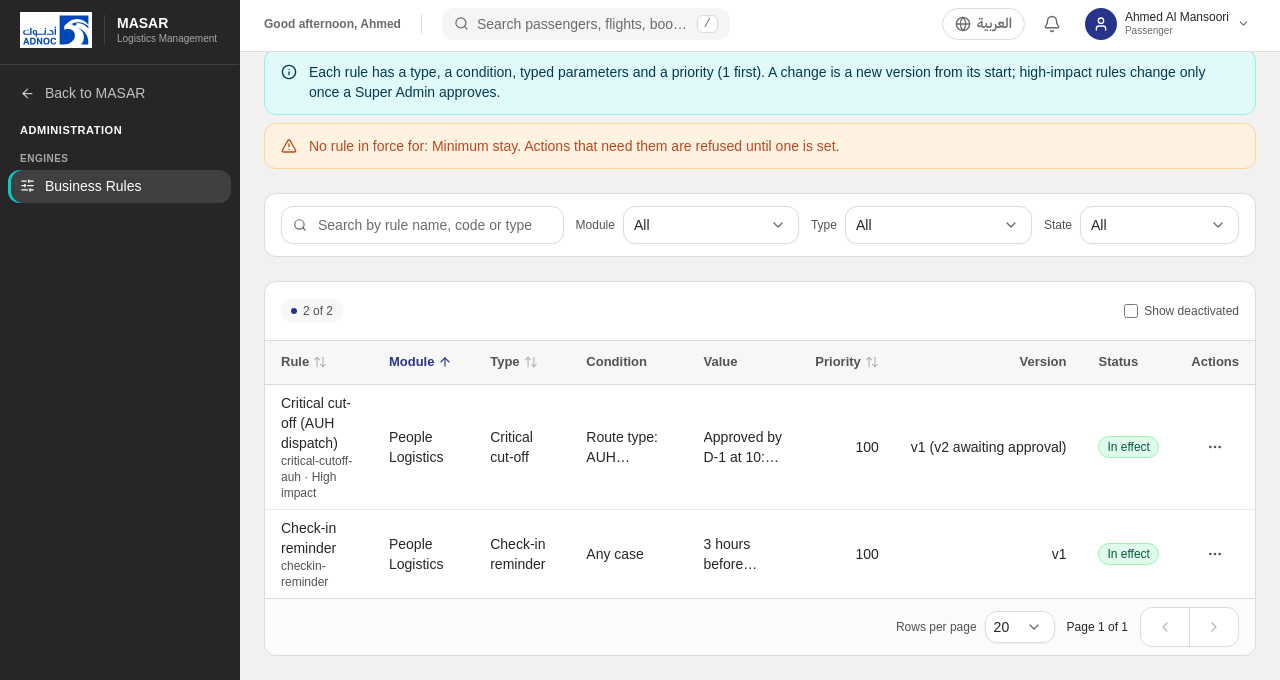
Test case: BRD-D.2.2.2-MST the Business Rules page (spec 10 §3.2) › PROMPT-2.7 a viewer sees the rules without New, edit or End
This screenshot has width=1280, height=680.
(page scrolled)
Expected: the text "Approved by D-1 at 10:00 GST" is shown, [704, 427, 783, 467]
What coordinates should you click on to do the following:
click the button named "Actions for Check-in reminder"
I would click on:
 (1215, 554)
Its box is [1191, 535, 1239, 573].
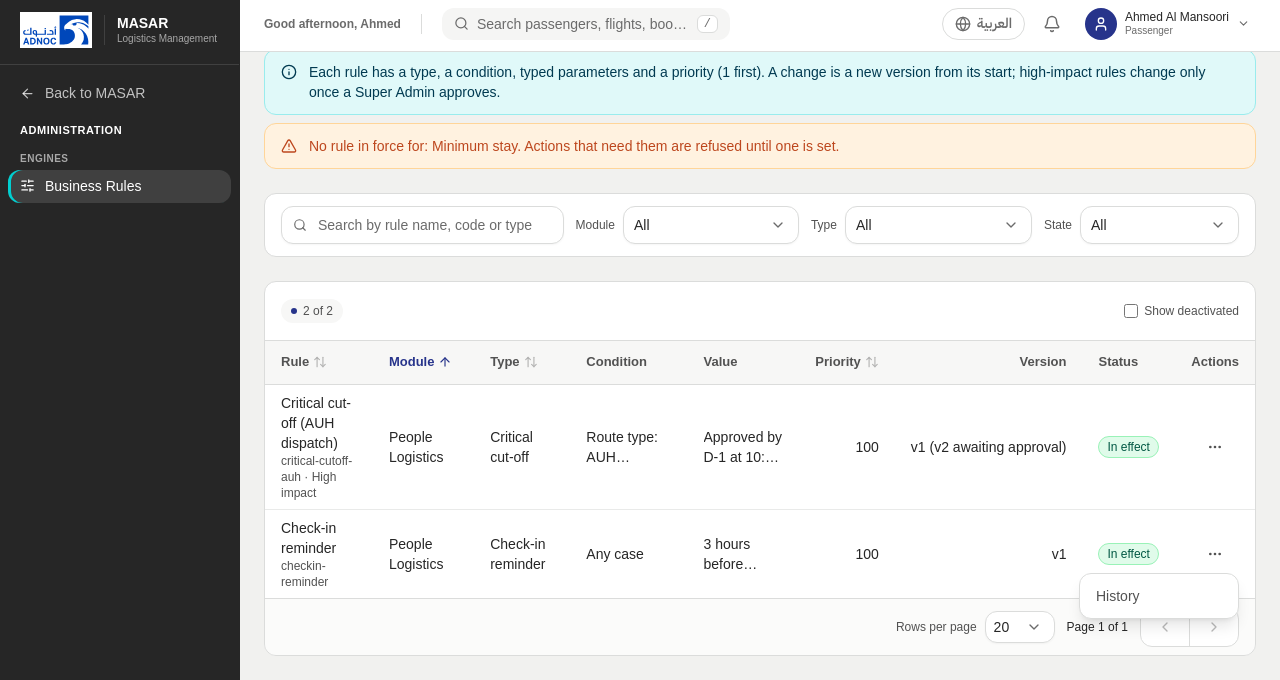
Expected: the menu items read "History", in this order, [1096, 588, 1140, 604]
